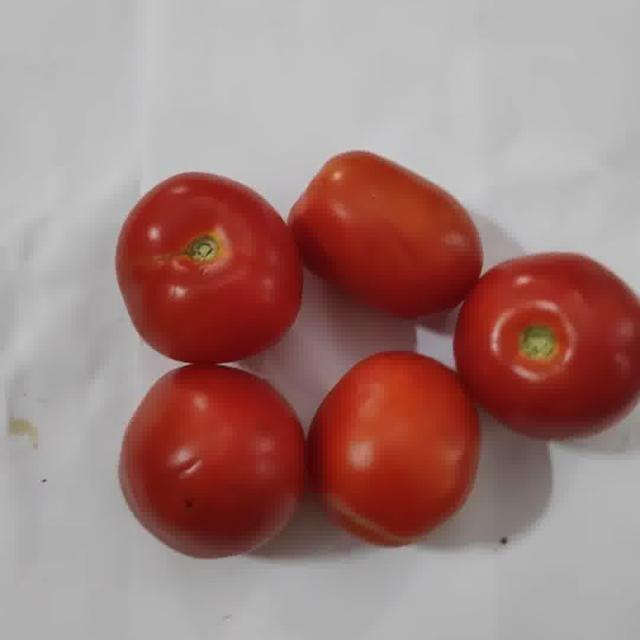Tomato: (455, 253, 639, 440)
